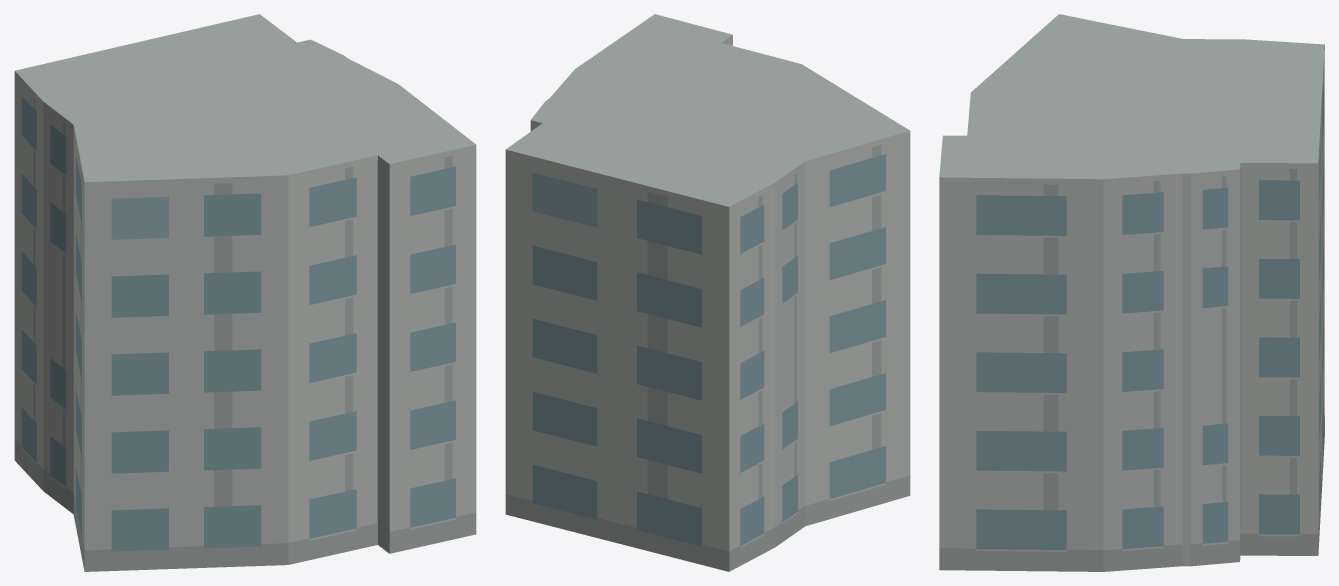
The model's file is survey-upis-32539283.glb.
3 renders of one model, left to right at view 1: azimuth 30°, elevation 25°; view 2: azimuth 150°, elevation 25°; view 3: azimuth 270°, elevation 25°, orthographic. The views are drawn at different scales.
Visible parts, largest first — view 1: survey-upis-32539283.tmp; view 2: survey-upis-32539283.tmp; view 3: survey-upis-32539283.tmp.
Part boxes in pixels (left/top/right/bottom): survey-upis-32539283.tmp: left=14, top=14, right=476, bottom=571; survey-upis-32539283.tmp: left=505, top=14, right=910, bottom=571; survey-upis-32539283.tmp: left=939, top=14, right=1324, bottom=571.
Size of the model in its own units: 14.67 by 16.25 by 14.47.
